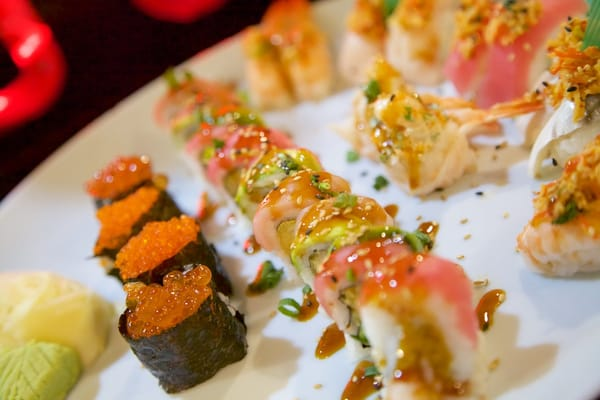soup: (515, 2, 600, 279)
